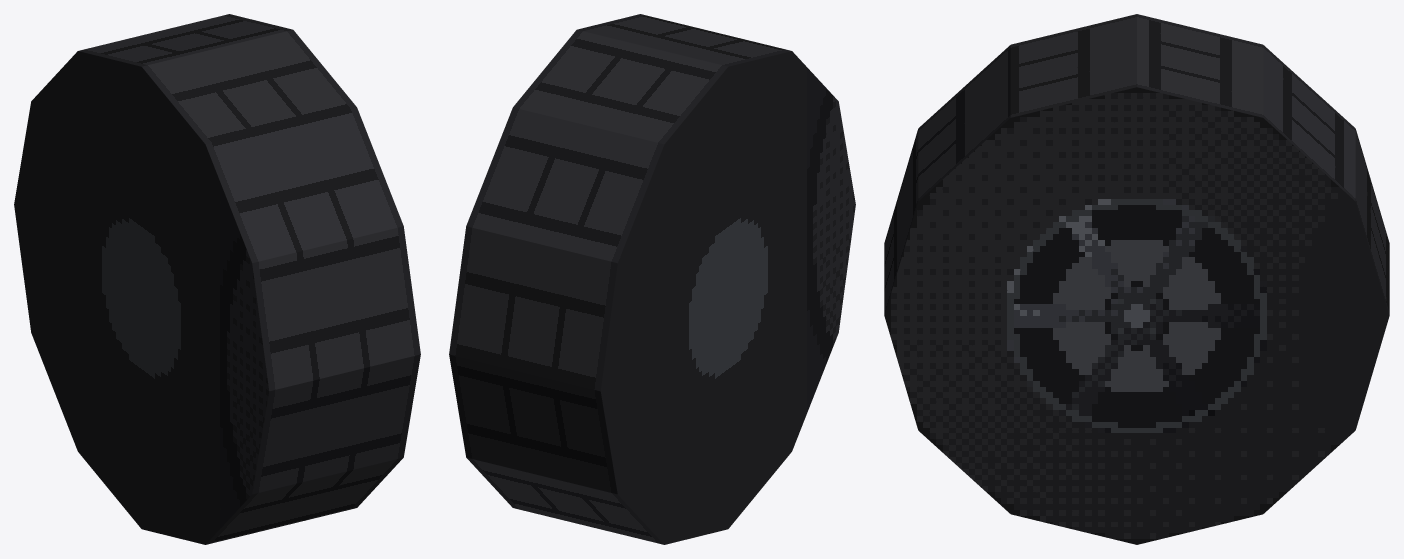
File: wheel_black6.glb
3 views of the same model, side by side, from view 1: azimuth 30°, elevation 25°; view 2: azimuth 150°, elevation 25°; view 3: azimuth 270°, elevation 25° (orthographic).
Visible parts, largest first — view 1: wheel_black6; view 2: wheel_black6; view 3: wheel_black6.
Part boxes in pixels (bbox=[...]): wheel_black6: bbox=[14, 14, 420, 544]; wheel_black6: bbox=[449, 14, 855, 544]; wheel_black6: bbox=[884, 14, 1389, 544].
Bounding box in the file's own units: 0.285 × 0.8308 × 0.8308.
Materials: 1 (1 with a texture image).
